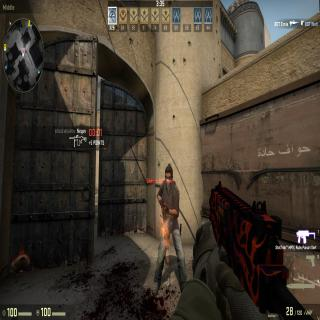T-Body: (154, 166, 188, 294)
T-Head: (162, 164, 175, 190)
